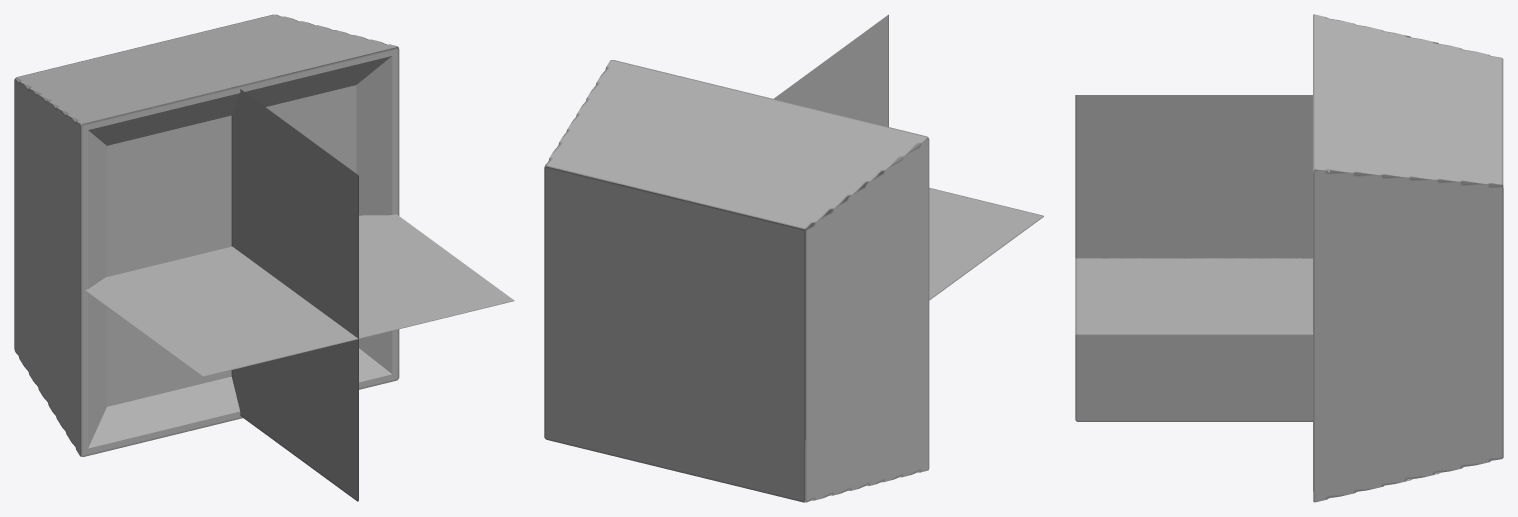
File: pz_plant_native_8.obj
The picture shows the model from 3 angles, left to right: view 1: azimuth 30°, elevation 25°; view 2: azimuth 150°, elevation 25°; view 3: azimuth 270°, elevation 25°; orthographic projection.
Visible parts, largest first — view 1: pot_soil_and_rim, foliage_PNG_crossed_cards; view 2: pot_soil_and_rim, foliage_PNG_crossed_cards; view 3: pot_soil_and_rim, foliage_PNG_crossed_cards.
Boxes of the visible parts, box(x1,y1,x2,y2) form: pot_soil_and_rim: box(14, 14, 399, 456); foliage_PNG_crossed_cards: box(84, 86, 514, 501); pot_soil_and_rim: box(544, 60, 929, 502); foliage_PNG_crossed_cards: box(773, 14, 1043, 300); pot_soil_and_rim: box(1313, 14, 1503, 502); foliage_PNG_crossed_cards: box(1075, 95, 1313, 421).
Size of the model in its own units: 0.54 by 0.54 by 0.63.
Materials: 1 (1 with a texture image).
